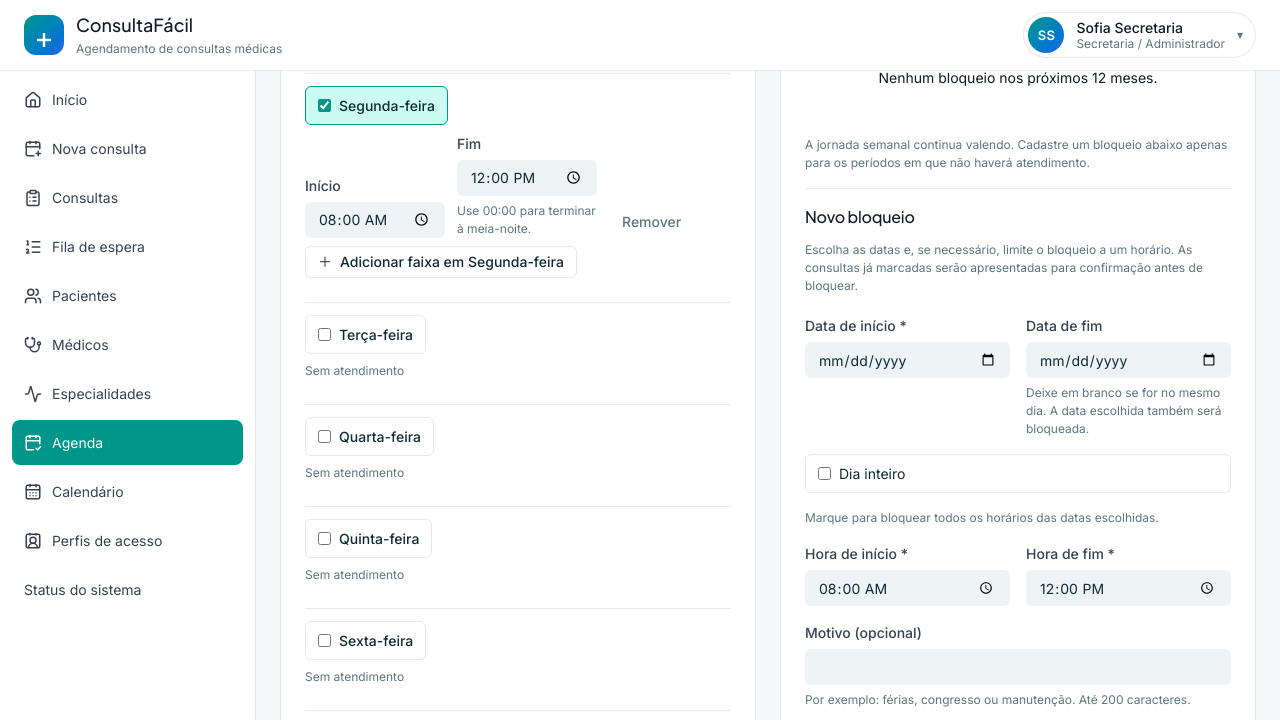
Test case: bloqueio sobre consultas marcadas › outros erros continuam aparecendo como antes
(page scrolled)
In the date field labelled "Data de início *": x=908, y=360 [805,342,1010,378], type "2026-11-16"
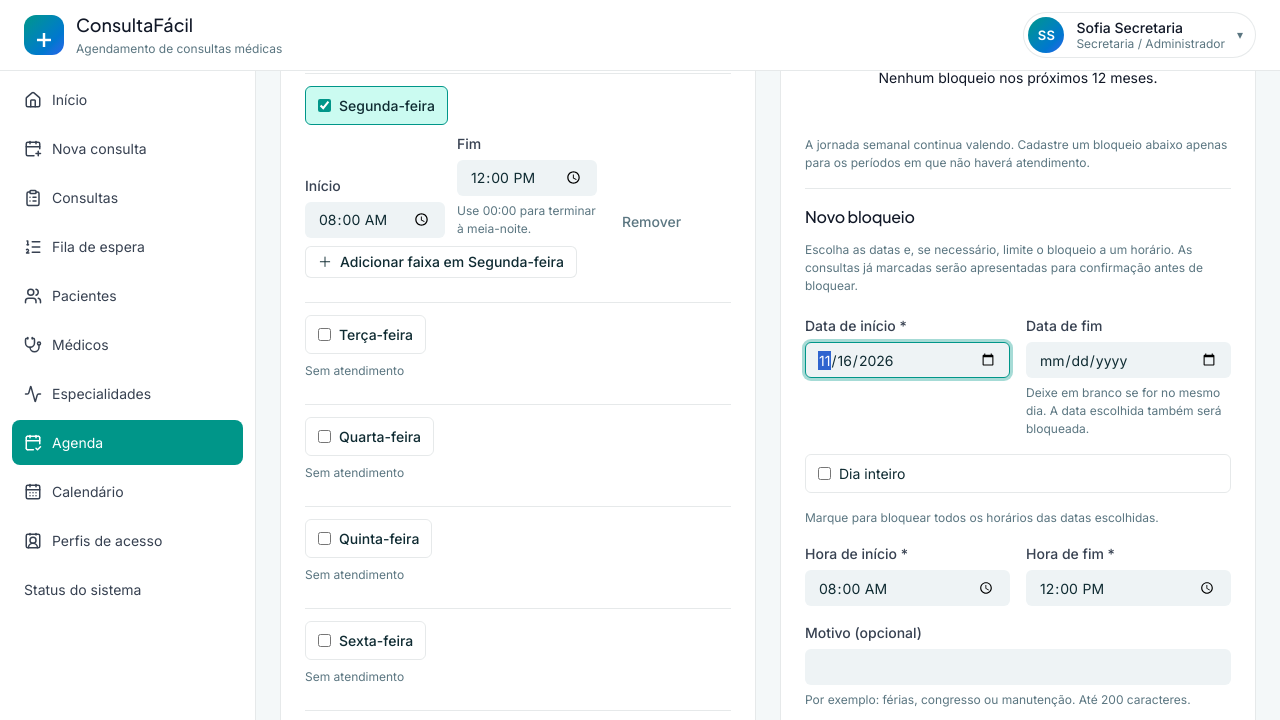
Click the checkbox labelled "Dia inteiro": x=824, y=474 [818,467,831,480]
(page scrolled)
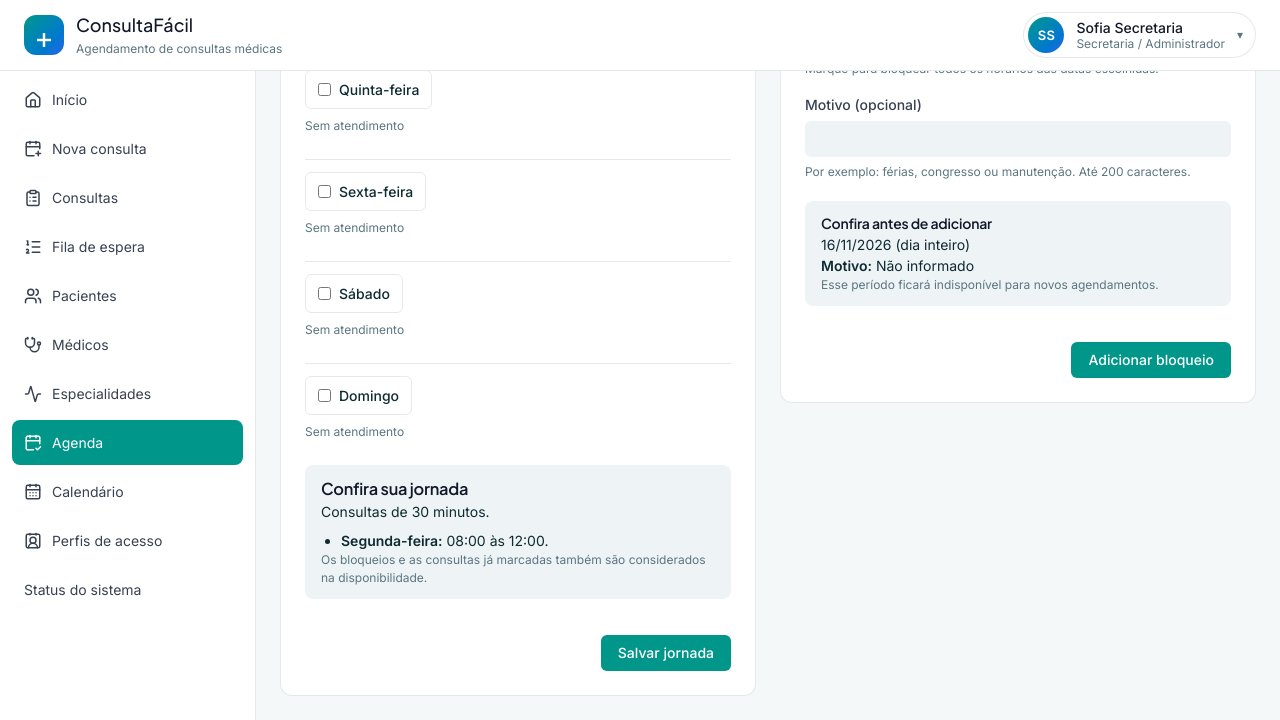
Click the button "Adicionar bloqueio": x=1151, y=360 [1072,342,1231,378]
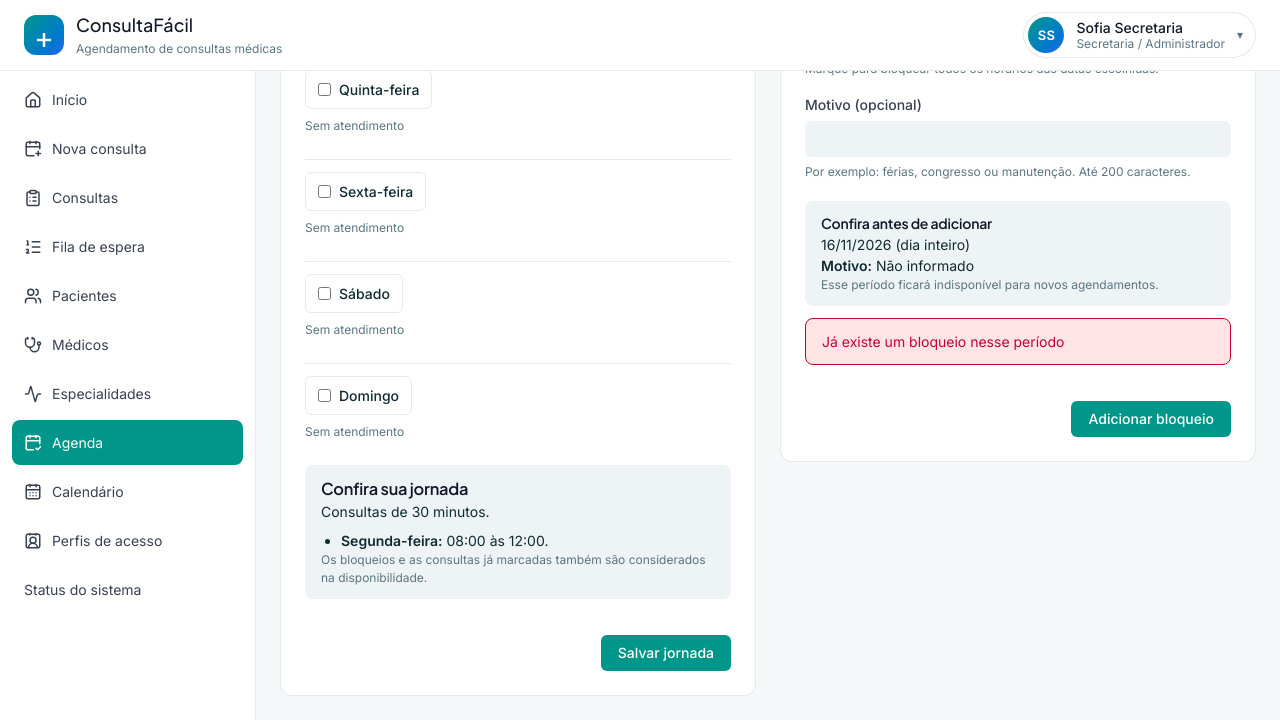
expect the text "Já existe um bloqueio nesse período" is shown: met, box [822,331,1064,352]
